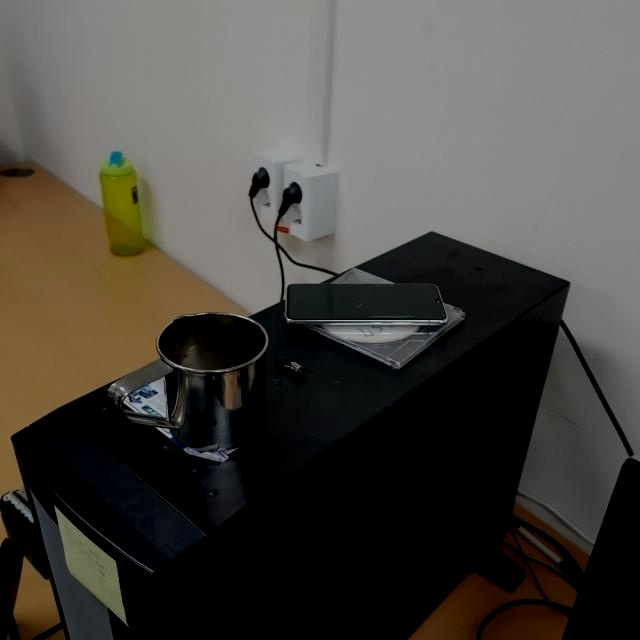cup: (108, 309, 268, 452)
phone: (284, 280, 448, 332)
